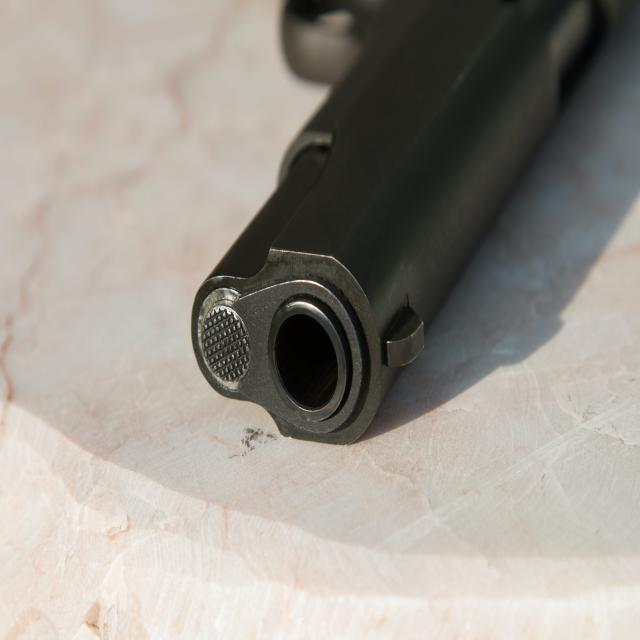Gun: (192, 0, 624, 442)
